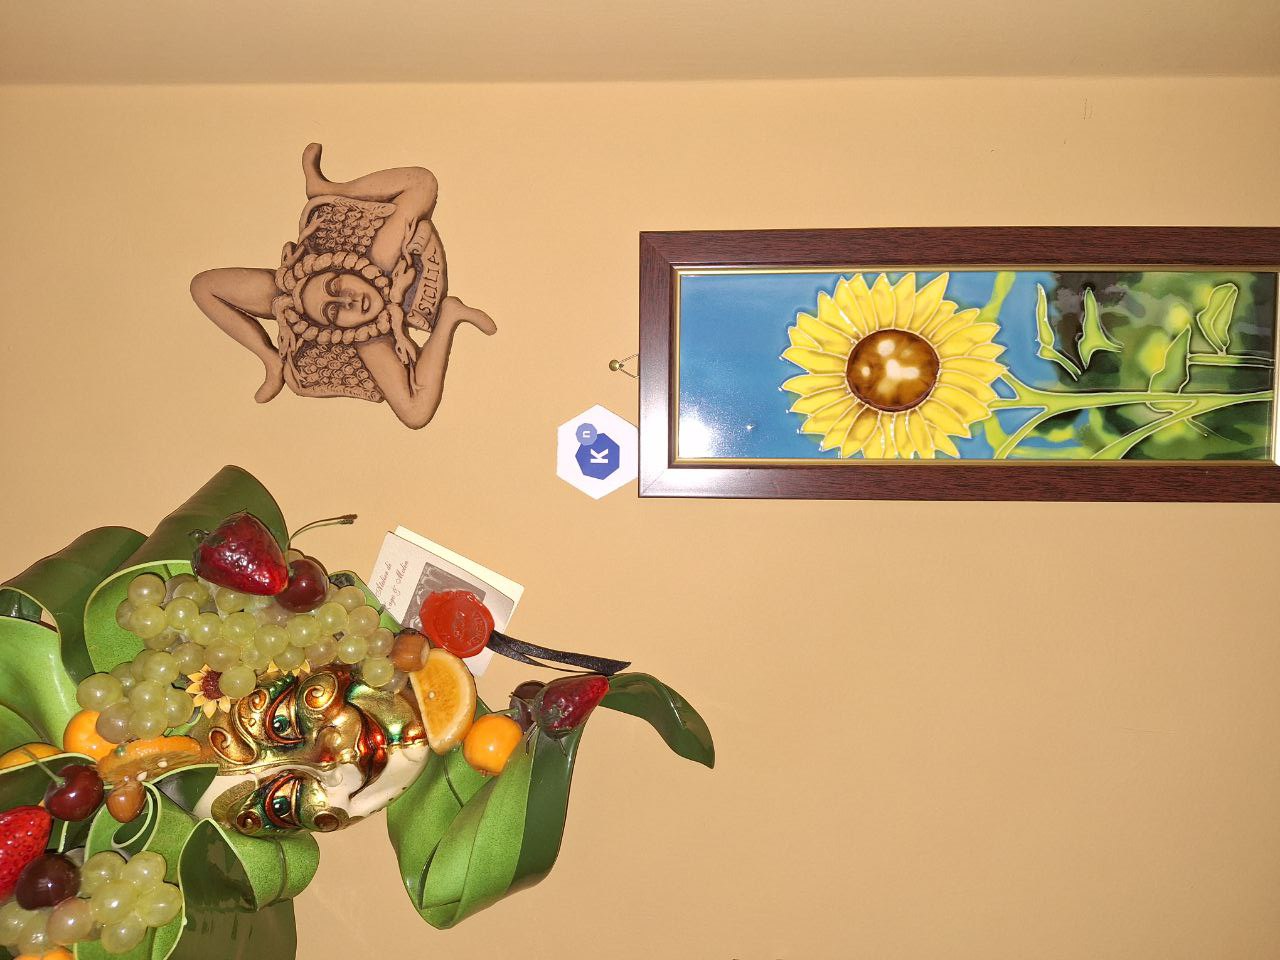knative: (573, 426, 621, 479)
